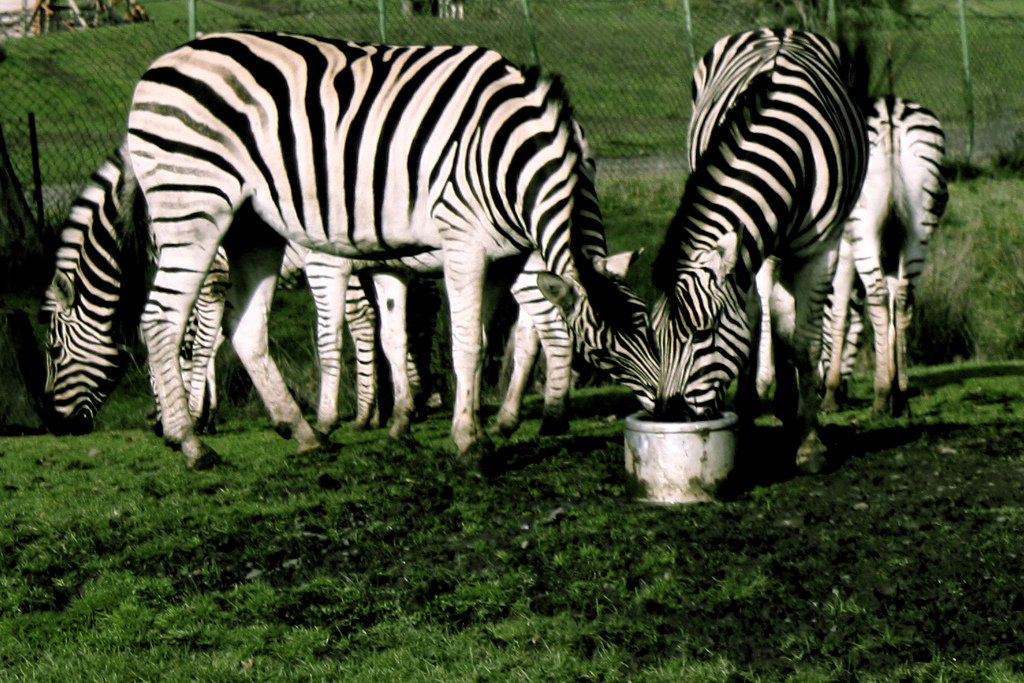zebra: (123, 30, 663, 478), (648, 30, 862, 476), (836, 92, 949, 426)
